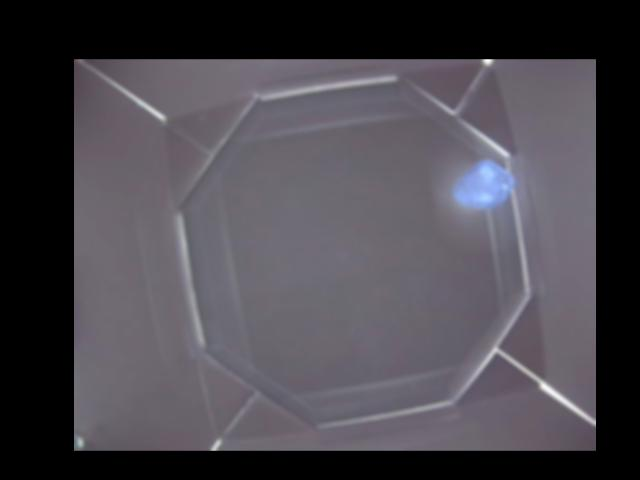Pebble: (453, 161, 517, 210)
